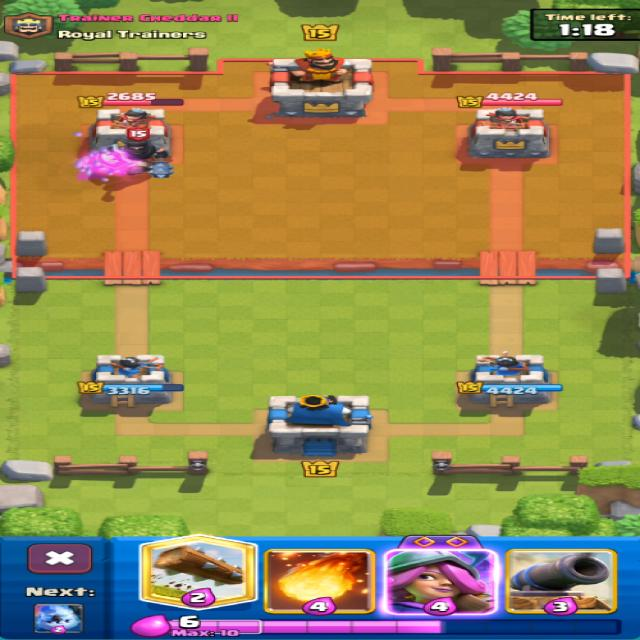Enemy-DarkPrince-Shield: (82, 129, 168, 175)
Enemy-KingTower: (270, 50, 372, 116)
Enemy-PrincessTower: (468, 107, 548, 158), (90, 107, 170, 154)
Player-KingTower: (268, 394, 371, 456)
Player-PrincessTower: (458, 352, 561, 406), (78, 356, 183, 407)
